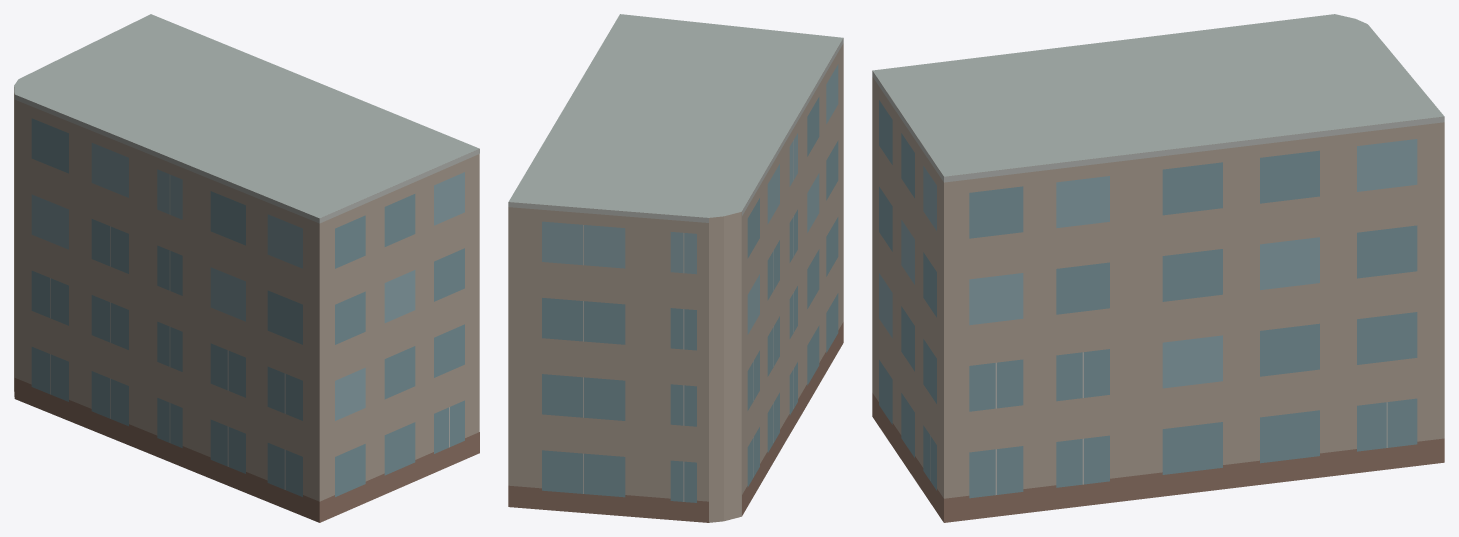
The model's file is survey-upis-32520566.glb.
The picture shows the model from 3 angles, left to right: view 1: azimuth 30°, elevation 25°; view 2: azimuth 150°, elevation 25°; view 3: azimuth 270°, elevation 25°; orthographic projection. The views are drawn at different scales.
Parts seen in each view (by area): view 1: survey-upis-32520566.tmp; view 2: survey-upis-32520566.tmp; view 3: survey-upis-32520566.tmp.
Boxes of the visible parts, left/top/right/bottom form: survey-upis-32520566.tmp: left=14, top=14, right=479, bottom=522; survey-upis-32520566.tmp: left=508, top=14, right=843, bottom=522; survey-upis-32520566.tmp: left=872, top=14, right=1444, bottom=522.
Size of the model in its own units: 14.63 by 14.5 by 21.73.
